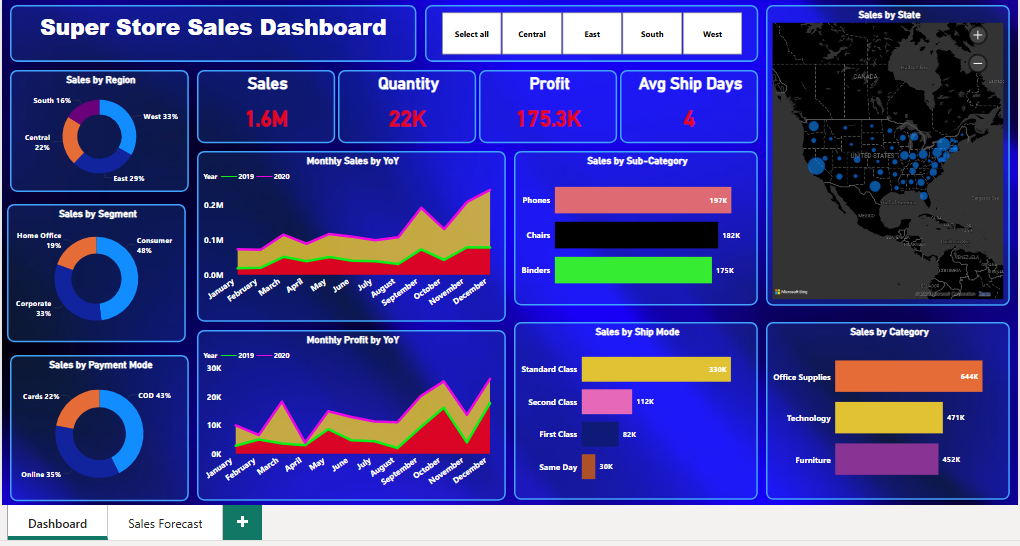

Layout of this report page (visuals, bound fields, positions):
{"tool":"powerbi","page":{"name":"Dashboard","canvas":[2000,1000],"ordinal":0},"visuals":[{"type":"clusteredBarChart","title":"Sales by Category","fields":{"Category":["SuperStore_Sales_Dataset (2).Category"],"Y":["Sum(SuperStore_Sales_Dataset (2).Sales)"]},"box":[1504,640,480,350],"z":0},{"type":"clusteredBarChart","title":"Sales by Sub-Category","fields":{"Y":["Sum(SuperStore_Sales_Dataset (2).Sales)"],"Category":["SuperStore_Sales_Dataset (2).Sub-Category"]},"box":[1008,304,480,304],"z":1000},{"type":"clusteredBarChart","title":"Sales by Ship Mode","fields":{"Y":["Sum(SuperStore_Sales_Dataset (2).Sales)"],"Category":["SuperStore_Sales_Dataset (2).Ship Mode"]},"box":[1008,640,480,350],"z":2000},{"type":"stackedAreaChart","title":"Monthly Sales by YoY","fields":{"Y":["Sum(SuperStore_Sales_Dataset (2).Sales)"],"Category":["SuperStore_Sales_Dataset (2).Order Date.Variation.Date Hierarchy.Month","SuperStore_Sales_Dataset (2).Order Date.Variation.Date Hierarchy.Day"],"Series":["SuperStore_Sales_Dataset (2).Order Date.Variation.Date Hierarchy.Year"]},"box":[384,304,608,336],"z":3000},{"type":"stackedAreaChart","title":"Monthly Profit by YoY","fields":{"Category":["SuperStore_Sales_Dataset (2).Order Date.Variation.Date Hierarchy.Month","SuperStore_Sales_Dataset (2).Order Date.Variation.Date Hierarchy.Day"],"Series":["SuperStore_Sales_Dataset (2).Order Date.Variation.Date Hierarchy.Year"],"Y":["Sum(SuperStore_Sales_Dataset (2).Profit)"]},"box":[384,656,608,336],"z":4000},{"type":"map","title":"Sales by State","fields":{"Category":["SuperStore_Sales_Dataset (2).State"],"Size":["Sum(SuperStore_Sales_Dataset (2).Sales)"]},"box":[1504,16,480,592],"z":5000},{"type":"donutChart","title":"Sales by Segment","fields":{"Category":["SuperStore_Sales_Dataset (2).Segment"],"Y":["Sum(SuperStore_Sales_Dataset (2).Sales)"]},"box":[10.7,408,352,272],"z":6000},{"type":"donutChart","title":"Sales by Payment Mode","fields":{"Y":["Sum(SuperStore_Sales_Dataset (2).Sales)"],"Category":["SuperStore_Sales_Dataset (2).Payment Mode"]},"box":[16,704,352,288],"z":7000},{"type":"slicer","fields":{"Values":["SuperStore_Sales_Dataset (2).Region"]},"box":[832,16,656,112],"z":8000},{"type":"textbox","box":[16,16,800,112],"z":9000},{"type":"donutChart","title":"Sales by Region","fields":{"Y":["Sum(SuperStore_Sales_Dataset (2).Sales)"],"Category":["SuperStore_Sales_Dataset (2).Region"]},"box":[16,144,352,240],"z":10000},{"type":"card","title":"Sales","fields":{"Values":["Sum(SuperStore_Sales_Dataset (2).Sales)"]},"box":[384,144,272,144],"z":11000},{"type":"card","title":"Quantity","fields":{"Values":["Sum(SuperStore_Sales_Dataset (2).Quantity)"]},"box":[661.3,144,272,144],"z":12000},{"type":"card","title":"Profit","fields":{"Values":["Sum(SuperStore_Sales_Dataset (2).Profit)"]},"box":[938.7,144,272,144],"z":13000},{"type":"card","title":"Avg Ship Days","fields":{"Values":["Avg(SuperStore_Sales_Dataset (2).AvgDelivery)"]},"box":[1216,144,272,144],"z":14000}]}

Visuals, with their boxes on the page's 2000x1000 design canvas (x1, y1, x2, y2). These are canvas units, not pixel positions in the 1020x546 screenshot, which may show the page scaled, cropped or inside an application window:
"Sales by Category" clusteredBarChart: [x1=1504, y1=640, x2=1984, y2=990]
"Sales by Sub-Category" clusteredBarChart: [x1=1008, y1=304, x2=1488, y2=608]
"Sales by Ship Mode" clusteredBarChart: [x1=1008, y1=640, x2=1488, y2=990]
"Monthly Sales by YoY" stackedAreaChart: [x1=384, y1=304, x2=992, y2=640]
"Monthly Profit by YoY" stackedAreaChart: [x1=384, y1=656, x2=992, y2=992]
"Sales by State" map: [x1=1504, y1=16, x2=1984, y2=608]
"Sales by Segment" donutChart: [x1=11, y1=408, x2=363, y2=680]
"Sales by Payment Mode" donutChart: [x1=16, y1=704, x2=368, y2=992]
slicer - SuperStore_Sales_Dataset (2).Region: [x1=832, y1=16, x2=1488, y2=128]
textbox: [x1=16, y1=16, x2=816, y2=128]
"Sales by Region" donutChart: [x1=16, y1=144, x2=368, y2=384]
"Sales" card: [x1=384, y1=144, x2=656, y2=288]
"Quantity" card: [x1=661, y1=144, x2=933, y2=288]
"Profit" card: [x1=939, y1=144, x2=1211, y2=288]
"Avg Ship Days" card: [x1=1216, y1=144, x2=1488, y2=288]
